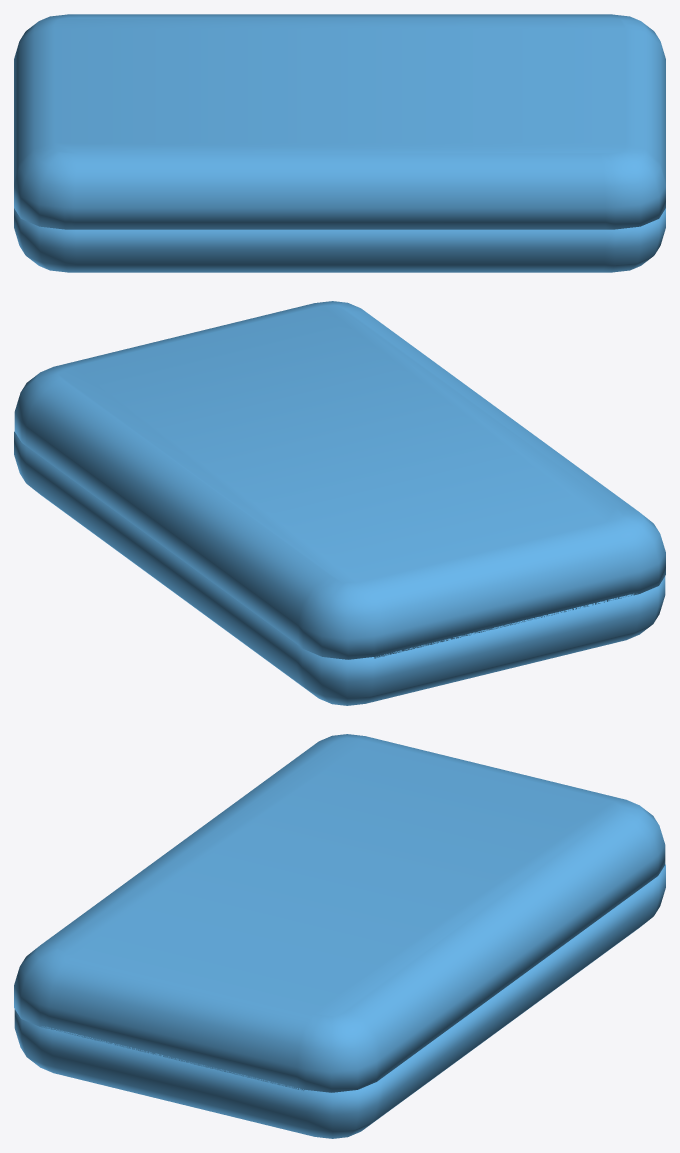
The model's file is Laptop.glb.
The picture shows the model from 3 angles, top to bottom: view 1: azimuth 30°, elevation 25°; view 2: azimuth 150°, elevation 25°; view 3: azimuth 270°, elevation 25°; orthographic projection. The views are drawn at different scales.
Parts seen in each view (by area): view 1: Plane.001, Plane; view 2: Plane.001, Plane; view 3: Plane.001, Plane.
Boxes of the visible parts, x1,y1,x2,y2 form: Plane.001: [14, 14, 665, 229]; Plane: [14, 208, 665, 272]; Plane.001: [14, 301, 665, 659]; Plane: [14, 431, 665, 705]; Plane.001: [14, 734, 665, 1092]; Plane: [14, 864, 665, 1138].
Size of what is drawn, in the model's own units: 1.45 by 0.2536 by 1.27.
